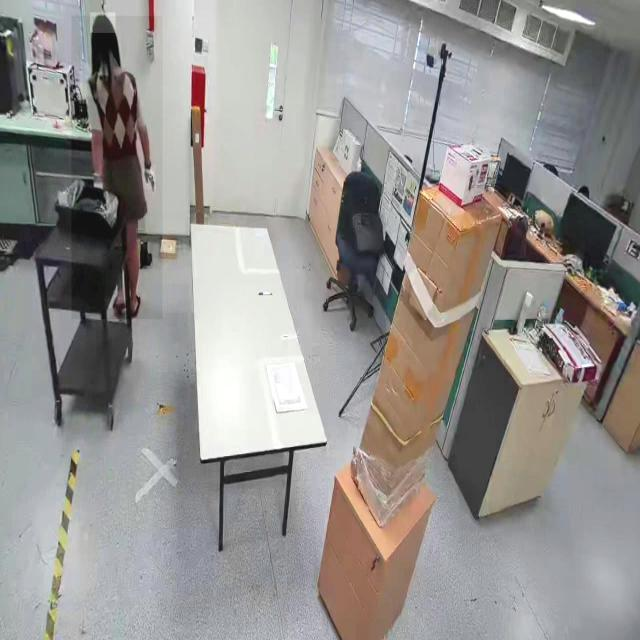hand_glove: (144, 164, 156, 190)
head_nohelmet: (90, 12, 116, 34)
person: (71, 16, 163, 320)
